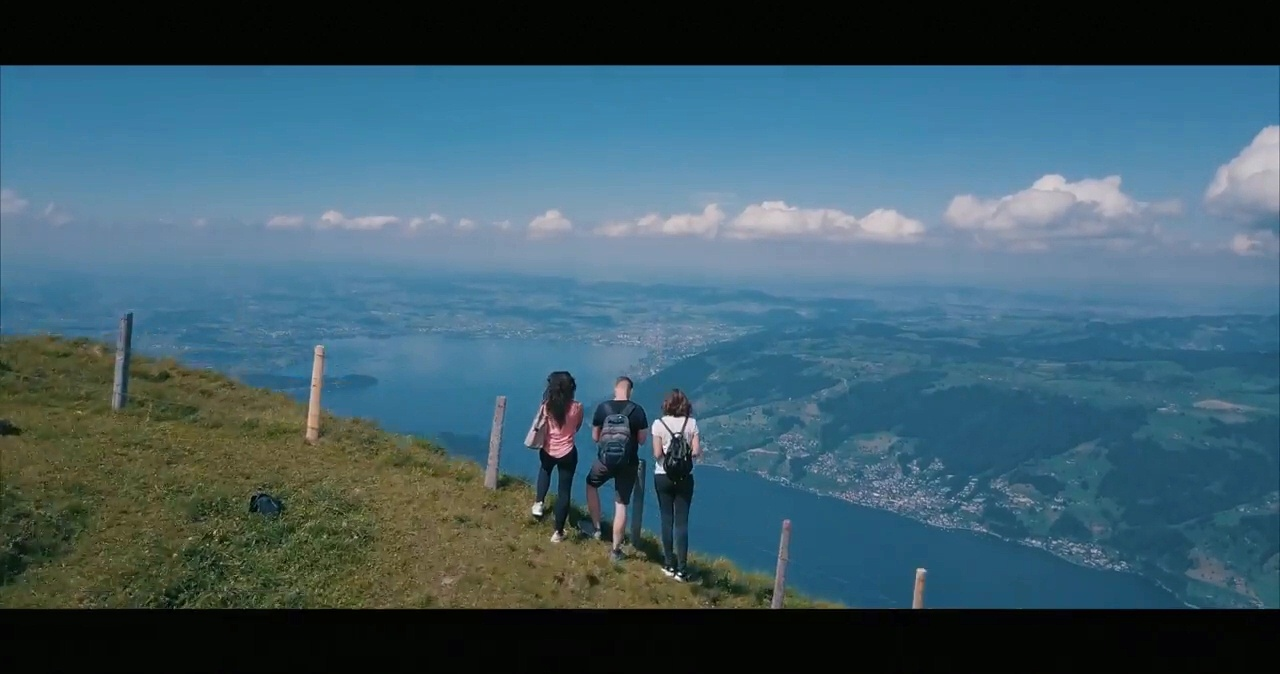insan: (527, 370, 584, 541), (651, 389, 700, 583), (589, 373, 638, 563)
